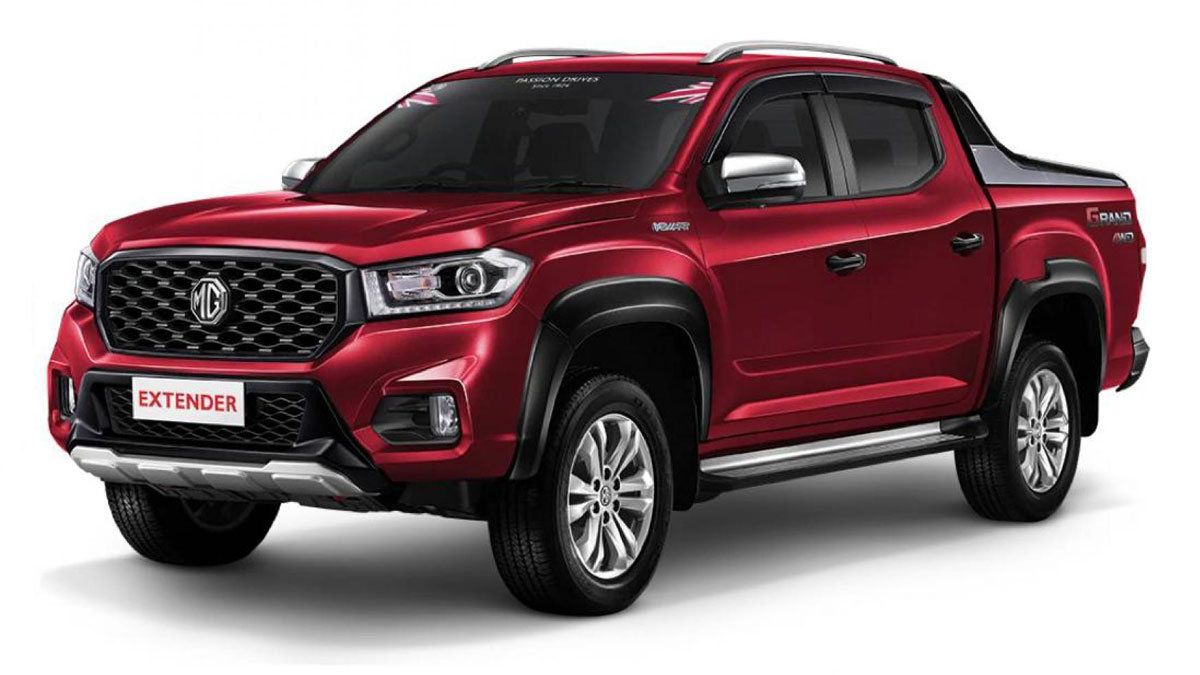pickup: (45, 38, 1151, 615)
